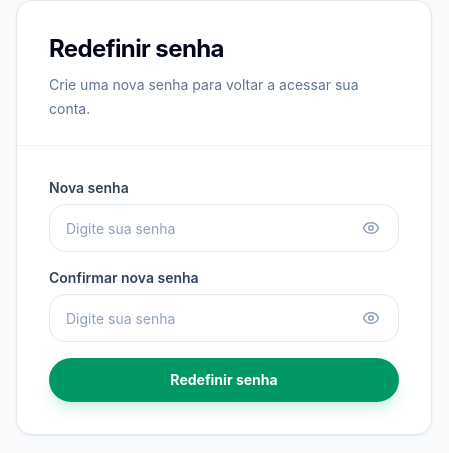
Scenario: recuperação de senha › trata token inválido ou expirado e permite solicitar outro link
The image size is (449, 453).
Type "segredo1" into the password field labelled "Nova senha" at [224, 228], box [49,204,399,252]
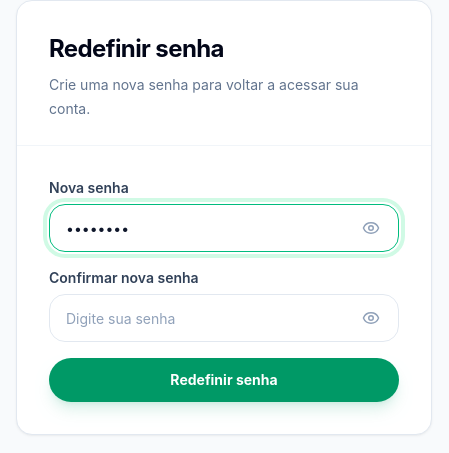
Type "segredo1" into the password field labelled "Confirmar nova senha" at [224, 318], box [49,294,399,342]
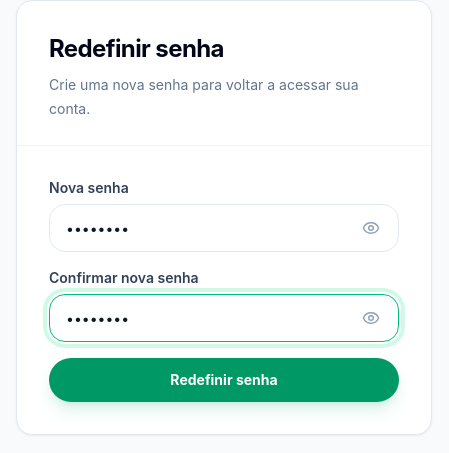
Click the button "Redefinir senha" at [224, 380], box [49,358,399,402]
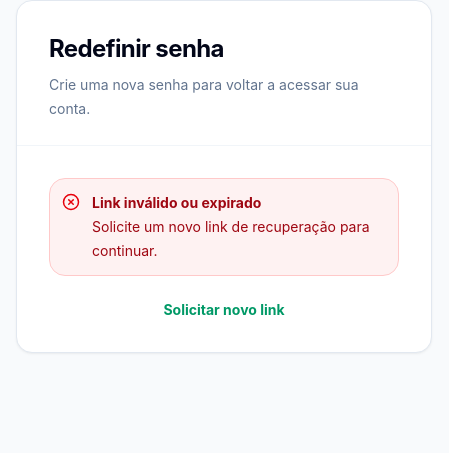
Expected: the text "Link inválido ou expirado" is shown, [92,194,261,211]
Expected: the link "Solicitar novo link" is shown, [163,301,285,318]
